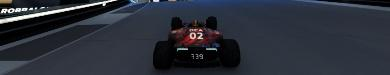Car: (152, 16, 240, 69)
Solid White and black: (0, 0, 132, 52)
